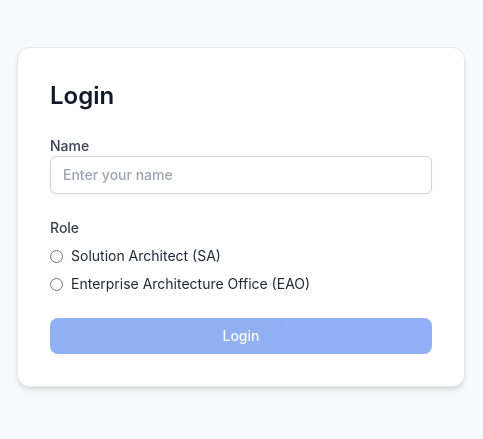
Test: Login Component › clears error when starting a new login attempt
Type "John Doe" into the field labelled "Name" at (241, 175), box [50,156,432,194]
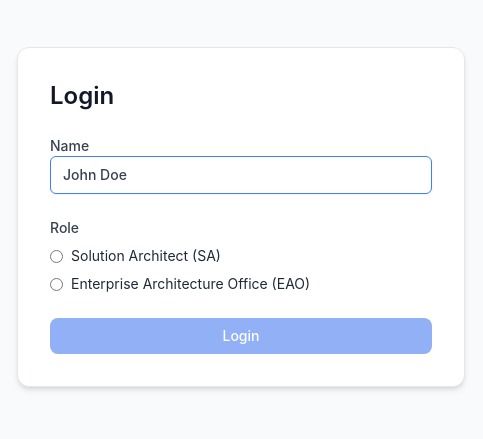
Click the radio button labelled "Solution Architect (SA)" at (56, 256), box [50,250,63,262]
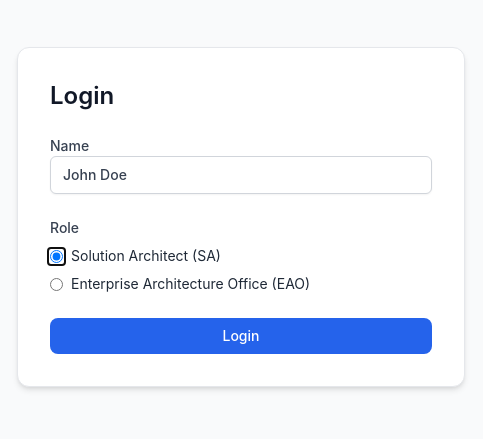
Click the button "Login" at (241, 336), box [50,318,432,354]
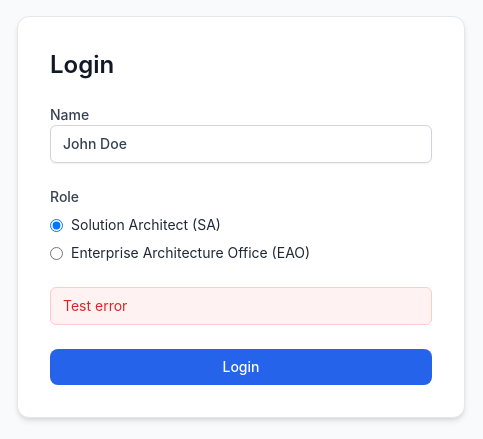
Result: the text "Test error" is shown at [50,287,432,325]
Click the button "Login" at (241, 367), box [50,349,432,385]
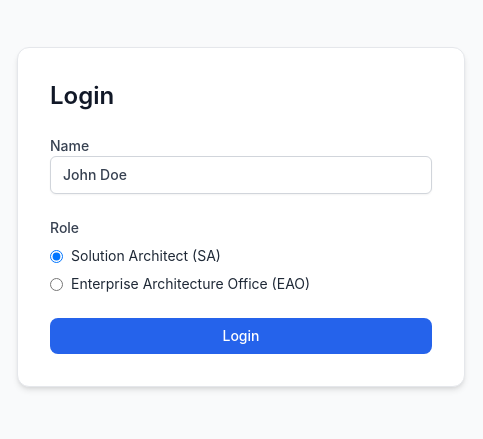
Result: the text "Test error" is gone
